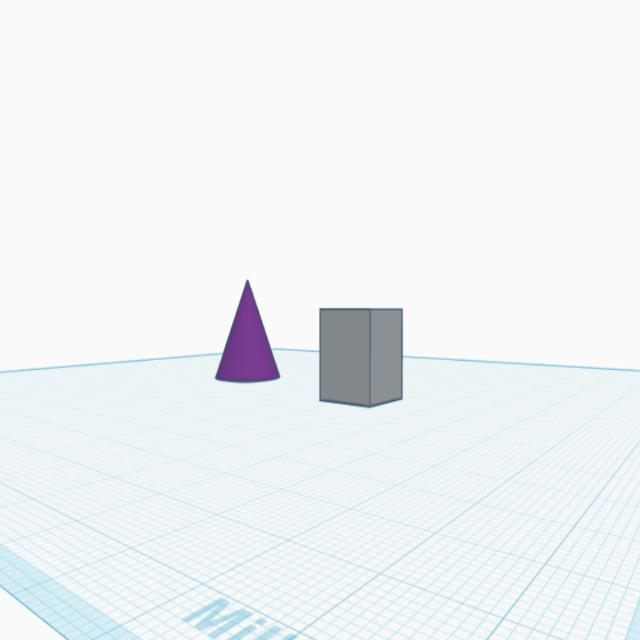cone: (211, 274, 281, 386)
cube: (316, 303, 404, 411)
